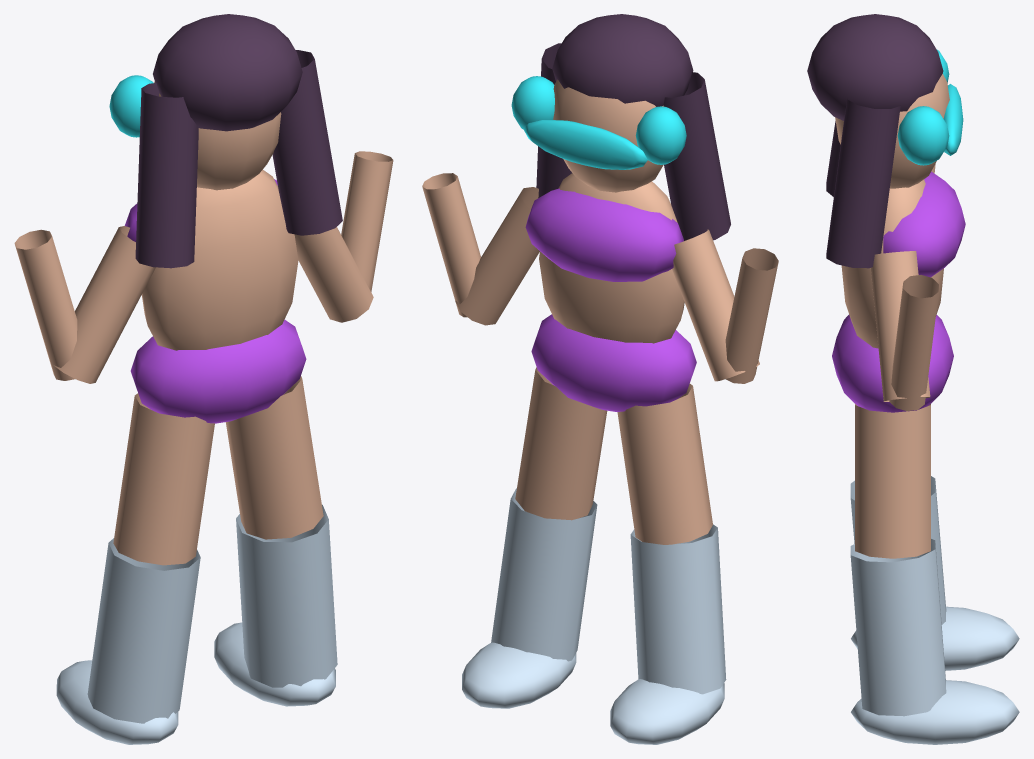
Rendered from raver.gltf.
3 renders of one model, left to right at view 1: azimuth 30°, elevation 25°; view 2: azimuth 150°, elevation 25°; view 3: azimuth 270°, elevation 25°, orthographic. The views are drawn at different scales.
Bounding box in the file's own units: 1.76 × 3.19 × 0.905.
